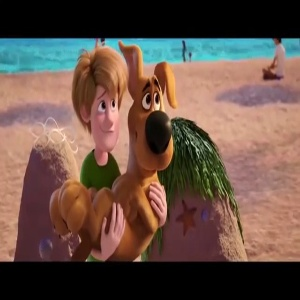Scooby: (132, 61, 180, 169)
Shagy: (74, 46, 124, 155)
